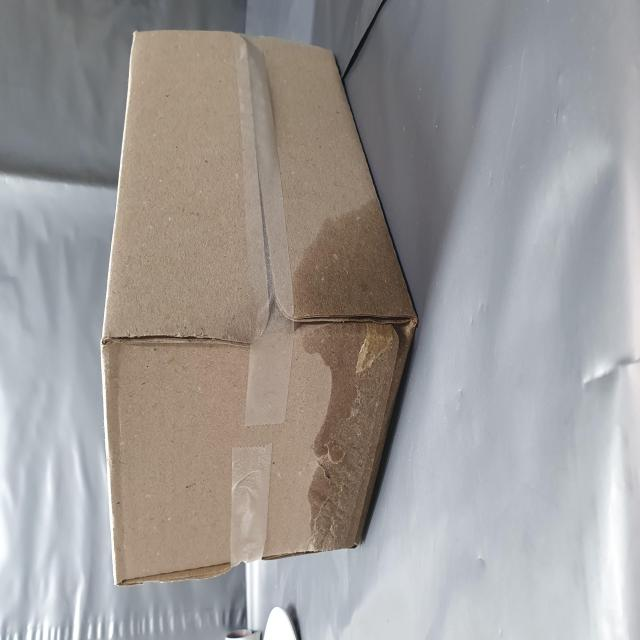wet: (49, 489, 254, 640)
